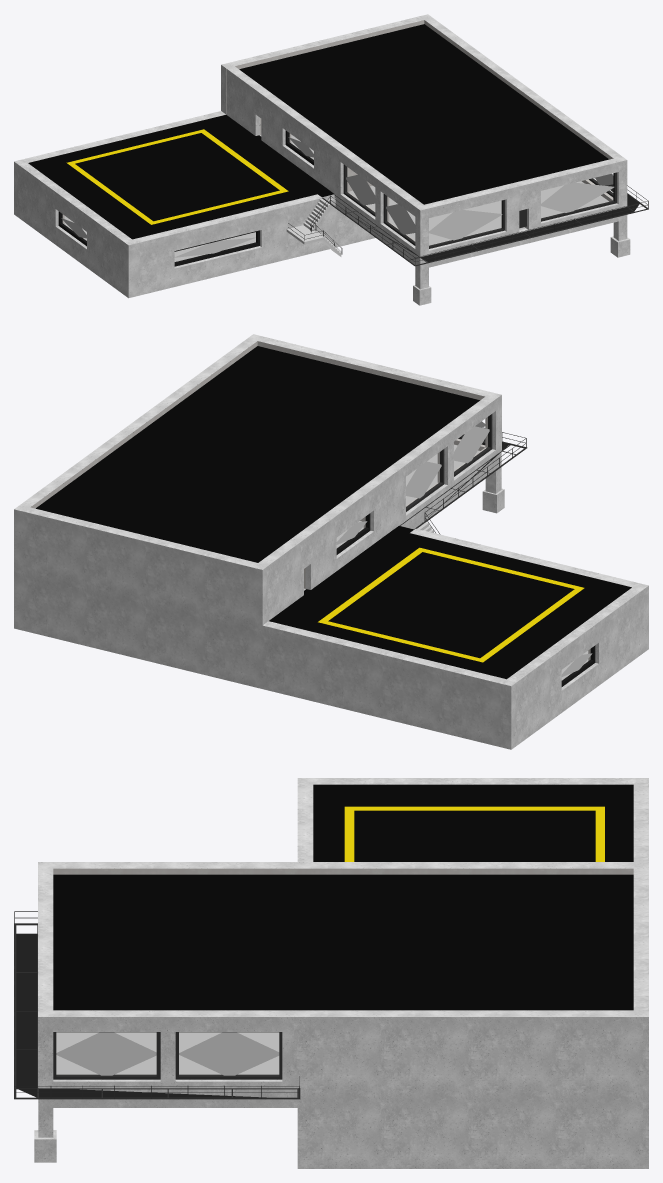
File: military-hq.access-v3.lod1.glb
3 renders of one model, top to bottom at view 1: azimuth 30°, elevation 25°; view 2: azimuth 150°, elevation 25°; view 3: azimuth 270°, elevation 25°, orthographic. The views are drawn at different scales.
Parts seen in each view (by area): view 1: Walls_Floor_2_0, Walls_Outer_Walls_0, Railing_Railing_0, Walls_Inner_walls_0; view 2: Walls_Floor_2_0, Walls_Outer_Walls_0, Walls_Inner_walls_0, Railing_Railing_0; view 3: Walls_Floor_2_0, Walls_Outer_Walls_0, Railing_Railing_0, Walls_Inner_walls_0.
Part boxes in pixels (<box>): Walls_Floor_2_0: <box>28,24,638,266</box>; Walls_Outer_Walls_0: <box>14,14,630,305</box>; Railing_Railing_0: <box>288,164,648,266</box>; Walls_Inner_walls_0: <box>50,20,613,241</box>; Walls_Floor_2_0: <box>36,346,631,686</box>; Walls_Outer_Walls_0: <box>14,334,648,749</box>; Walls_Inner_walls_0: <box>30,341,631,680</box>; Railing_Railing_0: <box>399,414,527,534</box>; Walls_Floor_2_0: <box>16,784,633,1097</box>; Walls_Outer_Walls_0: <box>34,778,648,1168</box>; Railing_Railing_0: <box>14,911,300,1099</box>; Walls_Inner_walls_0: <box>53,868,633,874</box>.
Size of the model in its own units: 40.21 by 8.91 by 33.7.
Materials: 6 (3 with a texture image).
